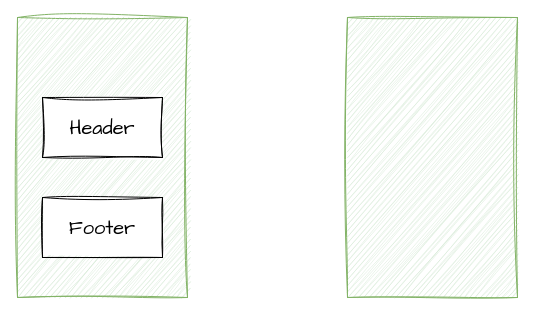
The diagram is 535 pixels wide and 315 high, and some of its shapes have lost their labels. Here are the shapes that lost their labels. From the top down, the box of each, then its label:
(16, 16, 188, 298): Home App (1.0.0)
(346, 16, 518, 298): PDP App (1.0.0)
